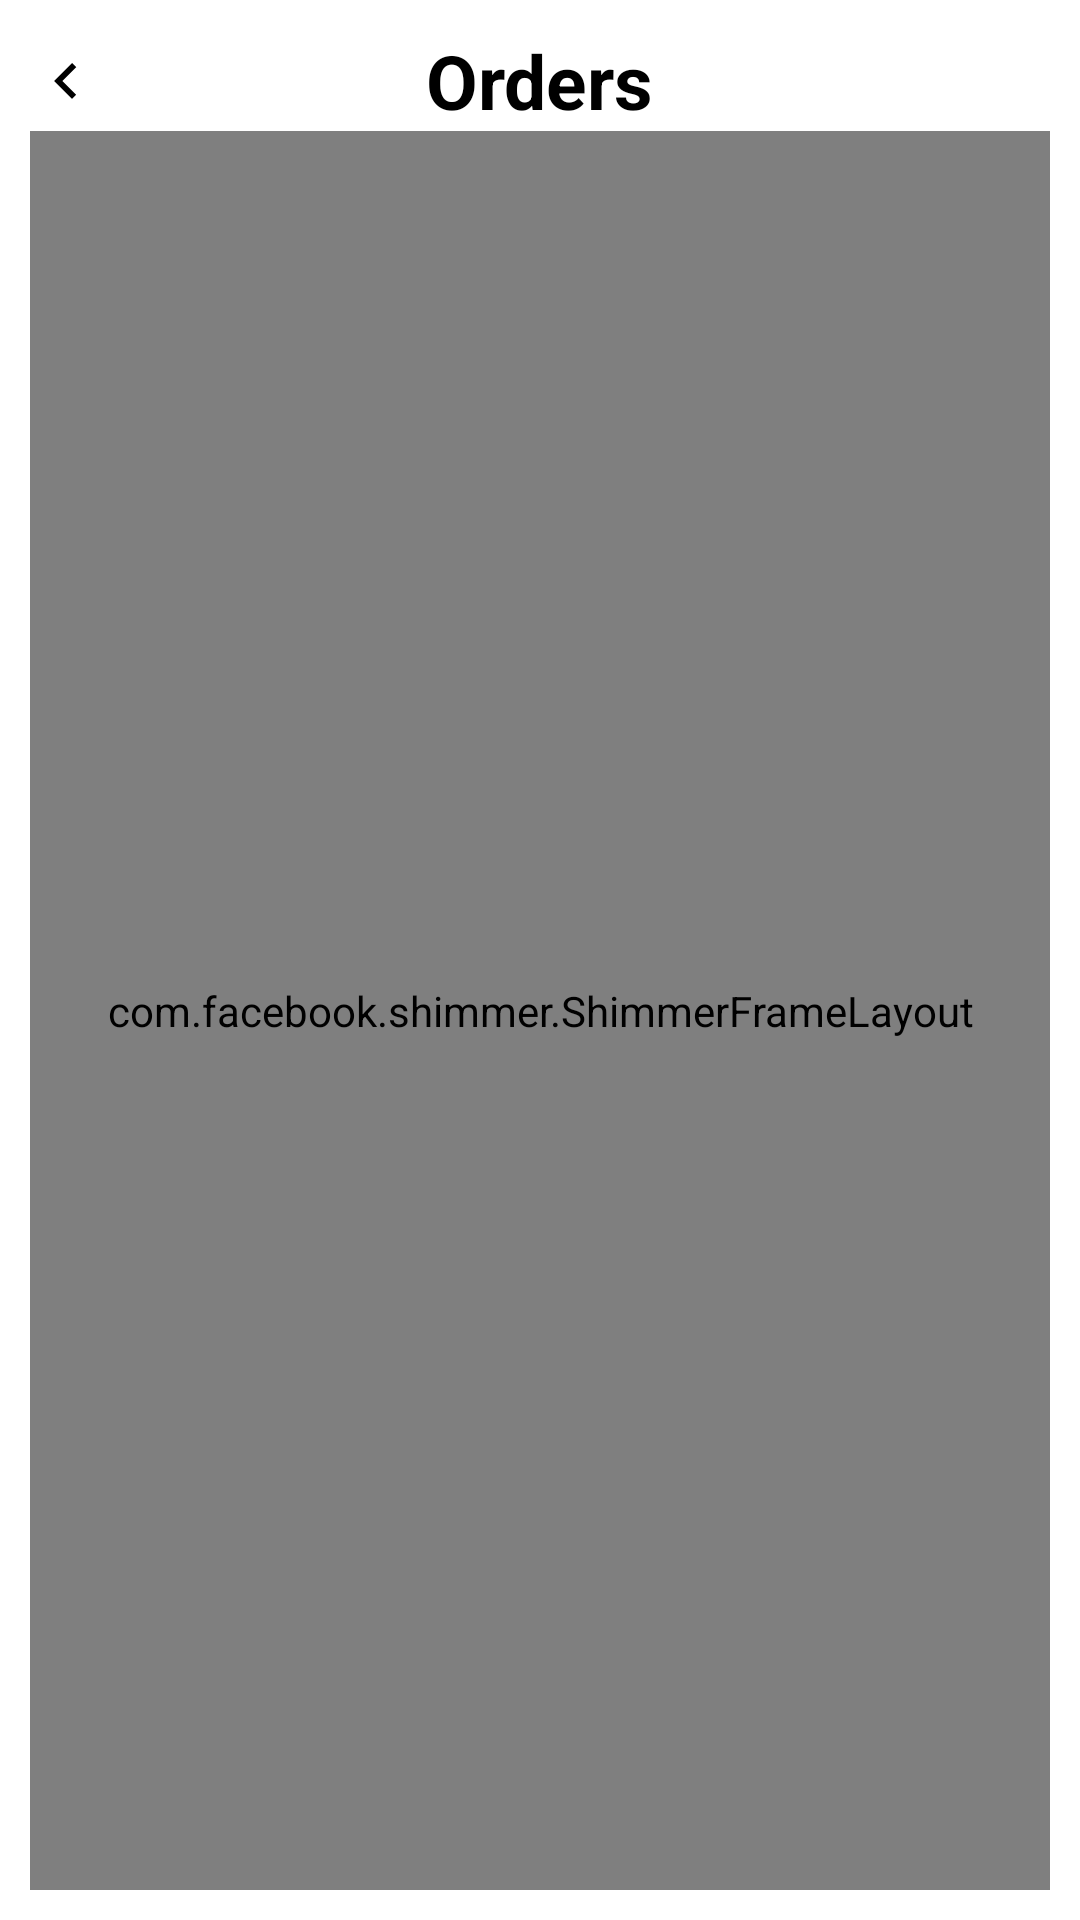

Screen size 1080px x 1920px. Icon name, then its center in pixels as point (x, y):
Go back: point (65, 81)
